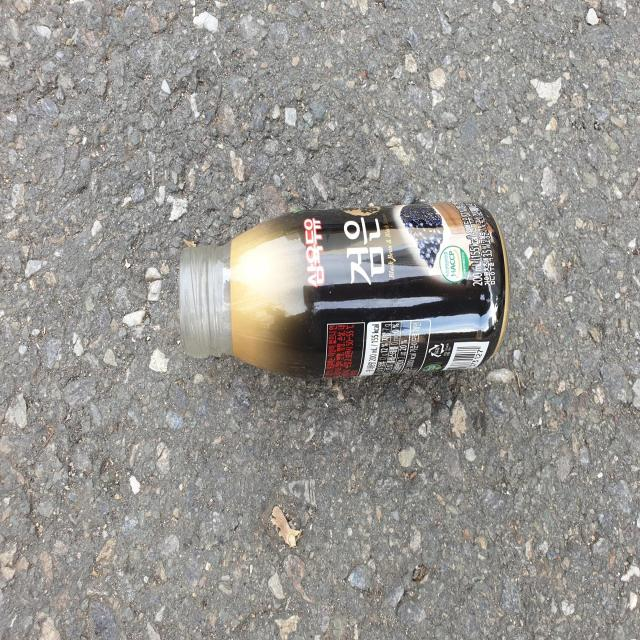glass: (178, 201, 510, 378)
